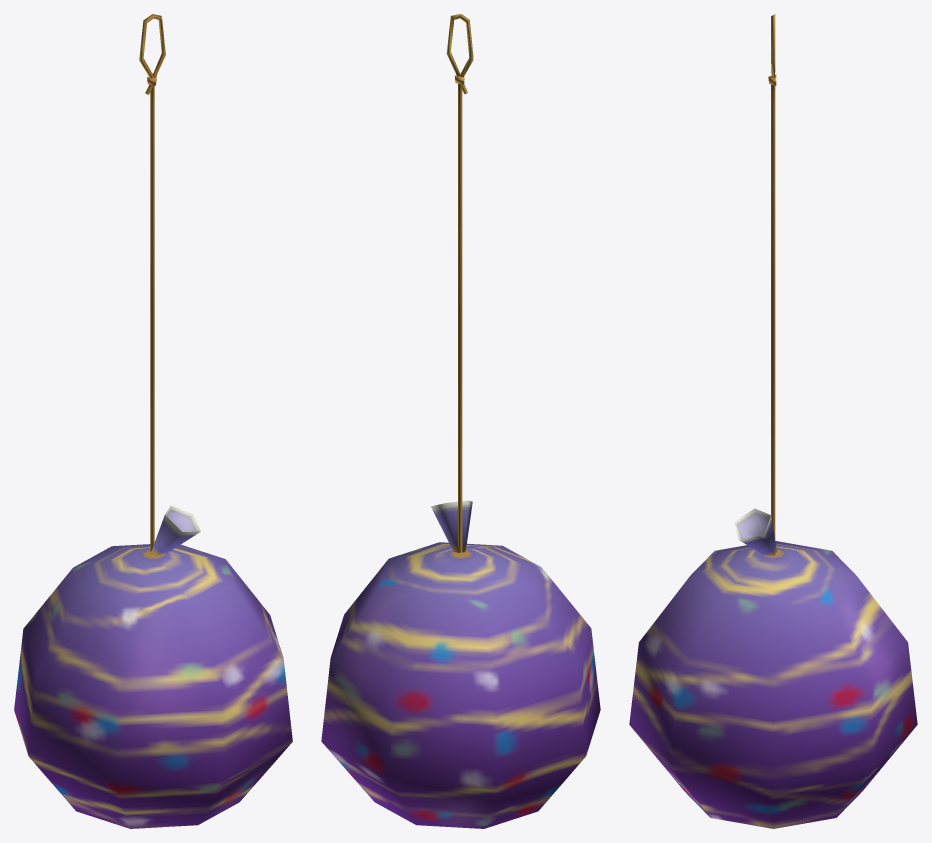
File: jsf_WaterBalloon_08_a.fbx
The picture shows the model from 3 angles, left to right: view 1: azimuth 30°, elevation 25°; view 2: azimuth 150°, elevation 25°; view 3: azimuth 270°, elevation 25°; orthographic projection.
Visible parts, largest first — view 1: jsf_WaterBalloon_08_a; view 2: jsf_WaterBalloon_08_a; view 3: jsf_WaterBalloon_08_a.
Part boxes in pixels (x1,y1,x2,y2): jsf_WaterBalloon_08_a: (14,14,292,828); jsf_WaterBalloon_08_a: (321,14,600,828); jsf_WaterBalloon_08_a: (629,14,917,828).
Bounding box in the file's own units: 10.92 × 33.54 × 10.92.
